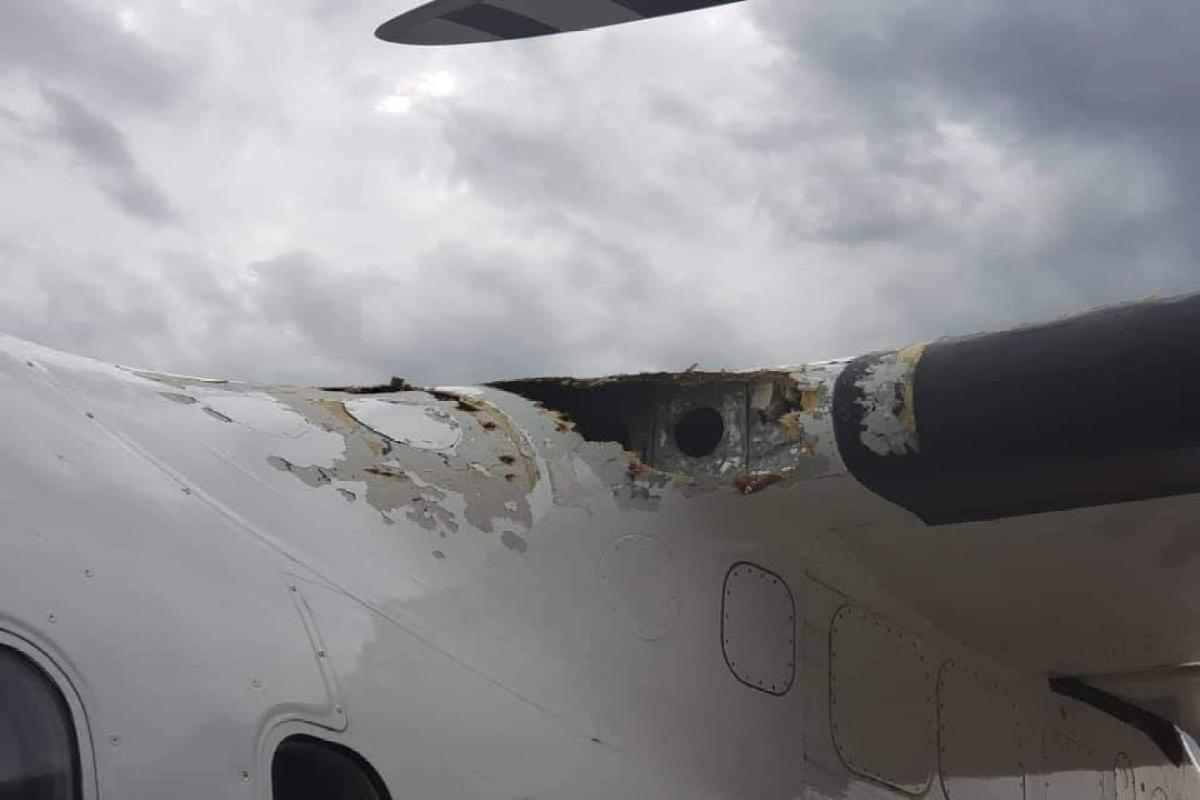Fuselage_damage: (113, 363, 541, 538), (476, 356, 857, 504), (852, 341, 937, 460), (497, 528, 531, 555), (151, 391, 204, 407), (198, 404, 236, 424)
